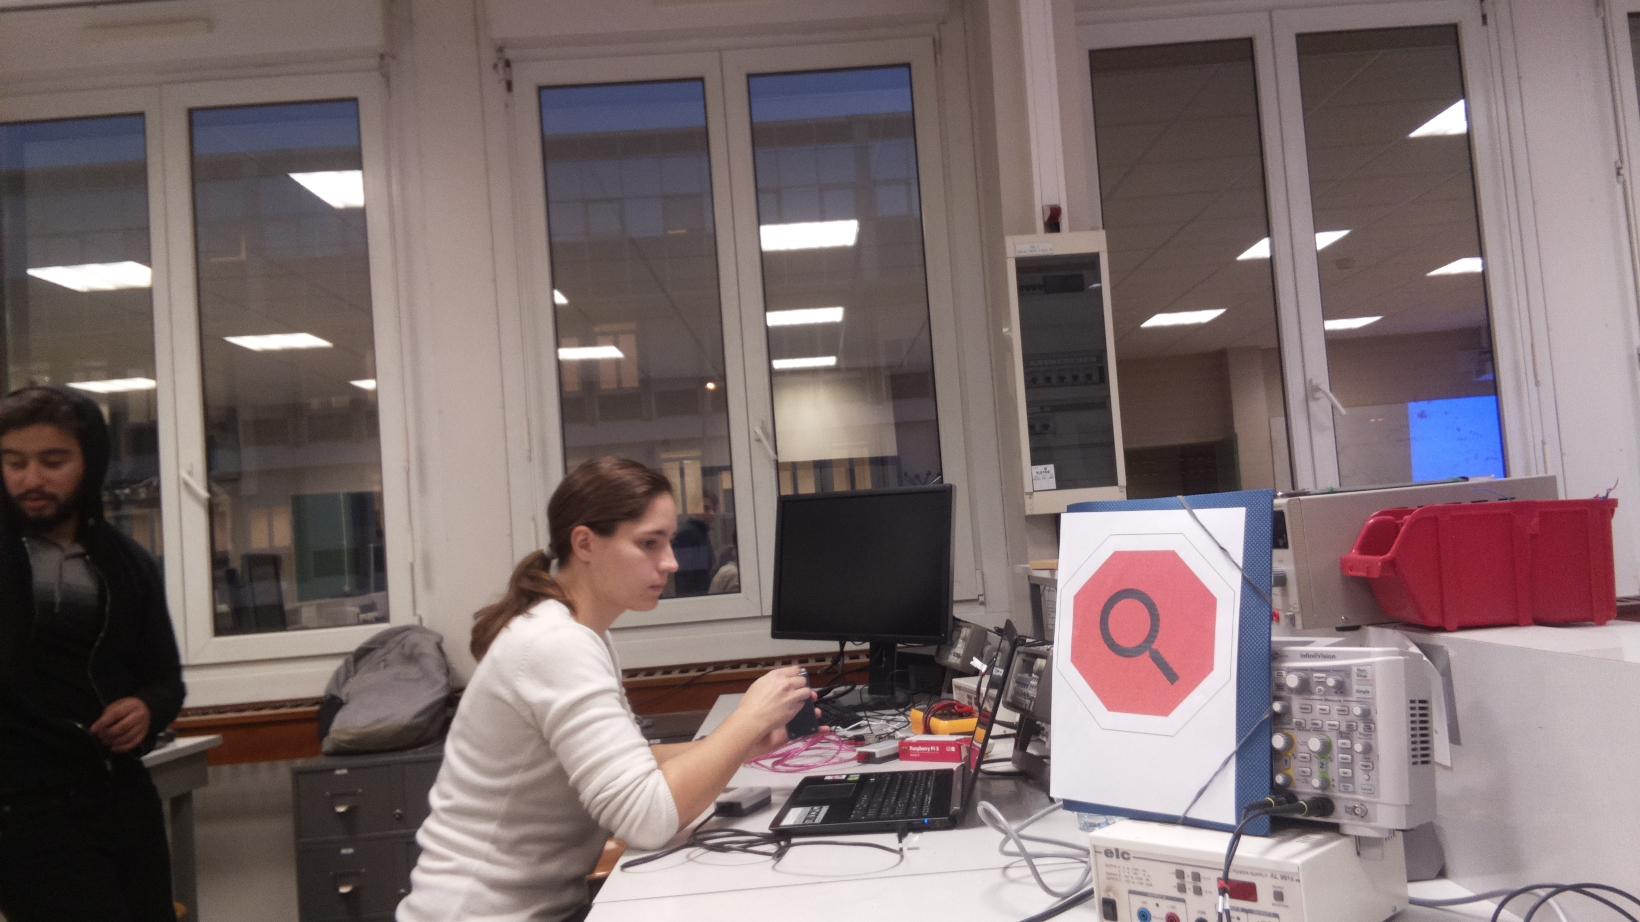search: (1061, 531, 1233, 739)
